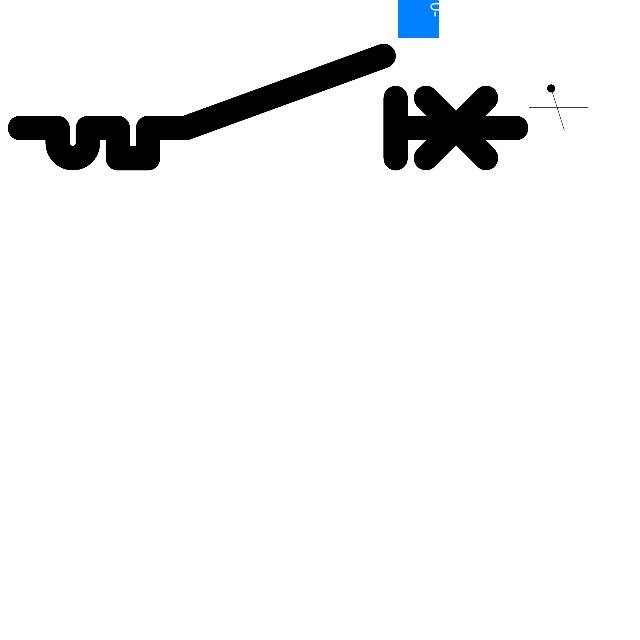interruptor_termomagnetico: (7, 43, 529, 171)
